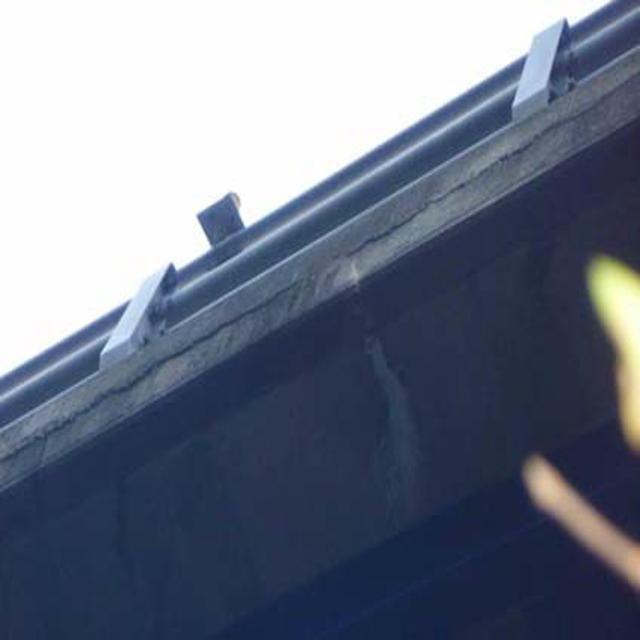freelime: (340, 263, 429, 501)
